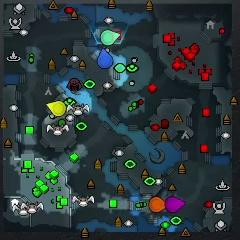p1: (98, 48, 113, 68)
p2: (100, 30, 120, 46)
p3: (166, 196, 185, 212)
p4: (47, 100, 66, 116)
p5: (149, 196, 165, 213)
